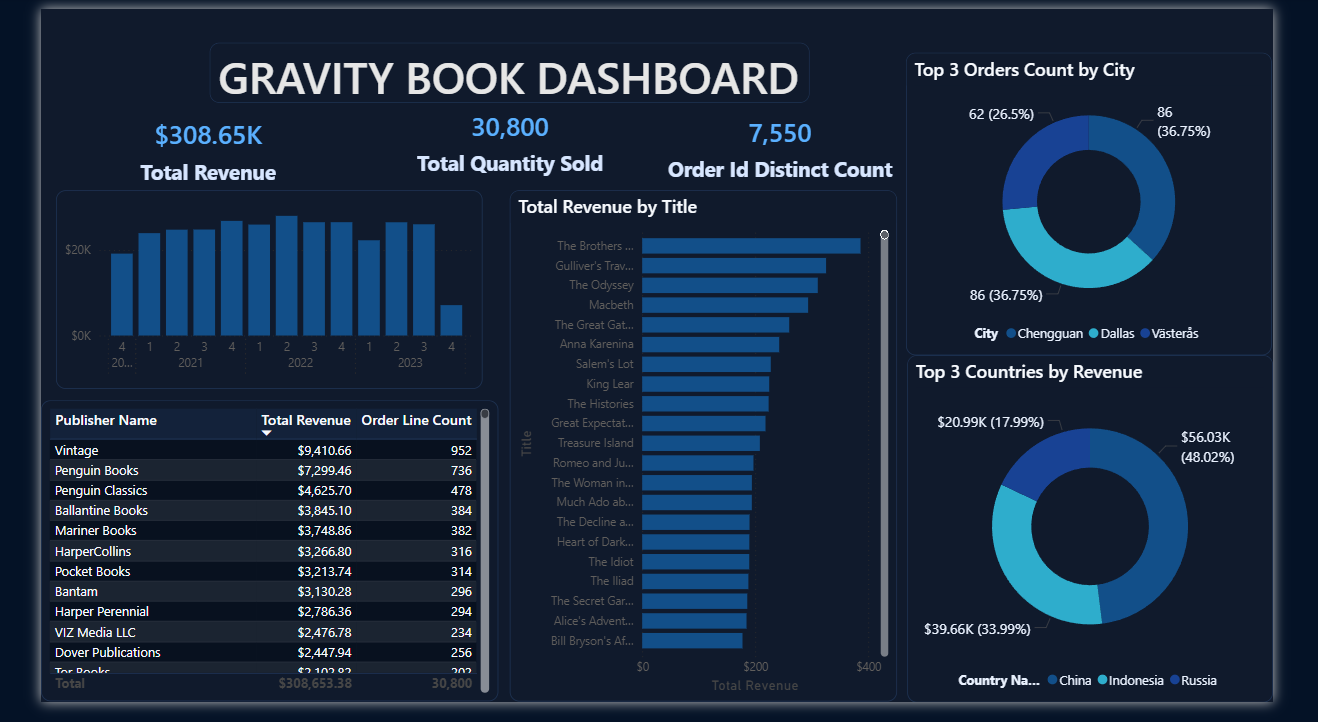

Layout of this report page (visuals, bound fields, positions):
{"tool":"powerbi","page":{"name":"Page 1","canvas":[1280,720],"ordinal":0},"visuals":[{"type":"card","fields":{"Values":["Fact Order Line.Total Revenue"]},"box":[94.5,98.2,158.3,94.5],"z":0},{"type":"lineClusteredColumnComboChart","fields":{"Y":["Fact Order Line.Total Revenue"],"Category":["Dim Date.Hierarchy.Year","Dim Date.Hierarchy.Quarter","Dim Date.Hierarchy.Month Name","Dim Date.Hierarchy.Full Date"]},"box":[16,187.7,442.9,206.1],"z":1000},{"type":"donutChart","title":"Top 3 Orders Count by City","fields":{"Y":["Fact Order Line.Order Line Count"],"Category":["Dim Address.City"]},"box":[898.7,46.1,380.3,314.5],"z":2000},{"type":"card","fields":{"Values":["Fact Order Line.Total Quantity Sold"]},"box":[382.6,87.7,208.7,100.2],"z":3000},{"type":"card","title":"Order Count By ID","fields":{"Values":["Fact Order Line 1.Order Id Distinct Count"]},"box":[621.1,98.7,294.7,89.5],"z":4000},{"type":"donutChart","title":"Top 3 Countries by Revenue ","fields":{"Y":["Fact Order Line.Total Revenue"],"Category":["Dim Address.Country Name"]},"box":[900,359.2,380.3,360.5],"z":5000},{"type":"tableEx","fields":{"Values":["Dim Book.Publisher Name","Fact Order Line.Total Revenue","Fact Order Line.Order Line Count"]},"box":[0,406.6,475,313.2],"z":7000},{"type":"barChart","fields":{"Y":["Fact Order Line.Total Revenue"],"Category":["Dim Book.Title"]},"box":[486.8,188.2,402.6,531.6],"z":8000},{"type":"textbox","title":"GRAVITY BOOK DASHBOARD","box":[175.5,35.6,623.3,62.6],"z":9000}]}

Visuals, with their boxes in screenshot pixels (x1, y1, x2, y2), scaled from the page's 1280x720 canvas onto the 1318x722 screenshot:
card - Fact Order Line.Total Revenue: x1=97 y1=98 x2=260 y2=193
lineClusteredColumnComboChart - Fact Order Line.Total Revenue x Dim Date.Hierarchy.Year: x1=16 y1=188 x2=473 y2=395
"Top 3 Orders Count by City" donutChart: x1=925 y1=46 x2=1317 y2=362
card - Fact Order Line.Total Quantity Sold: x1=394 y1=88 x2=609 y2=188
"Order Count By ID" card: x1=640 y1=99 x2=943 y2=189
"Top 3 Countries by Revenue " donutChart: x1=927 y1=360 x2=1317 y2=721
tableEx - Dim Book.Publisher Name x Fact Order Line.Total Revenue: x1=0 y1=408 x2=489 y2=721
barChart - Fact Order Line.Total Revenue x Dim Book.Title: x1=501 y1=189 x2=916 y2=721
"GRAVITY BOOK DASHBOARD" textbox: x1=181 y1=36 x2=823 y2=98
